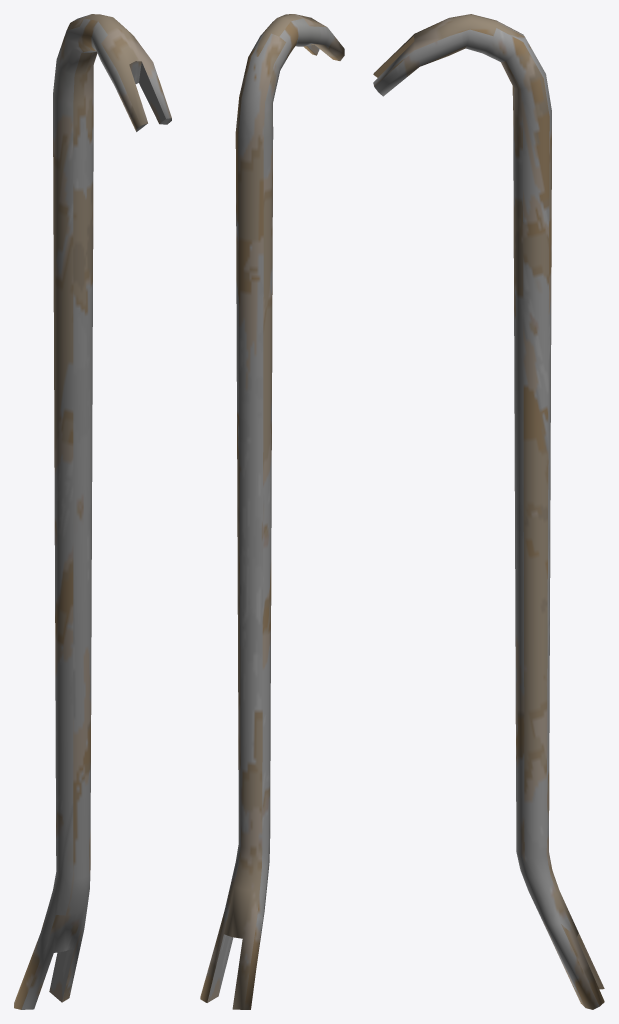
The model's file is Crowbar.fbx.
The picture shows the model from 3 angles, left to right: view 1: azimuth 30°, elevation 25°; view 2: azimuth 150°, elevation 25°; view 3: azimuth 270°, elevation 25°; orthographic projection. The views are drawn at different scales.
Parts seen in each view (by area): view 1: Crowbar; view 2: Crowbar; view 3: Crowbar.
Boxes of the visible parts, x1,y1,x2,y2 form: Crowbar: (14,14,171,1009); Crowbar: (200,14,344,1009); Crowbar: (373,14,604,1009).
Size of the model in its own units: 4 by 71.01 by 15.19.
Materials: 1 (1 with a texture image).
